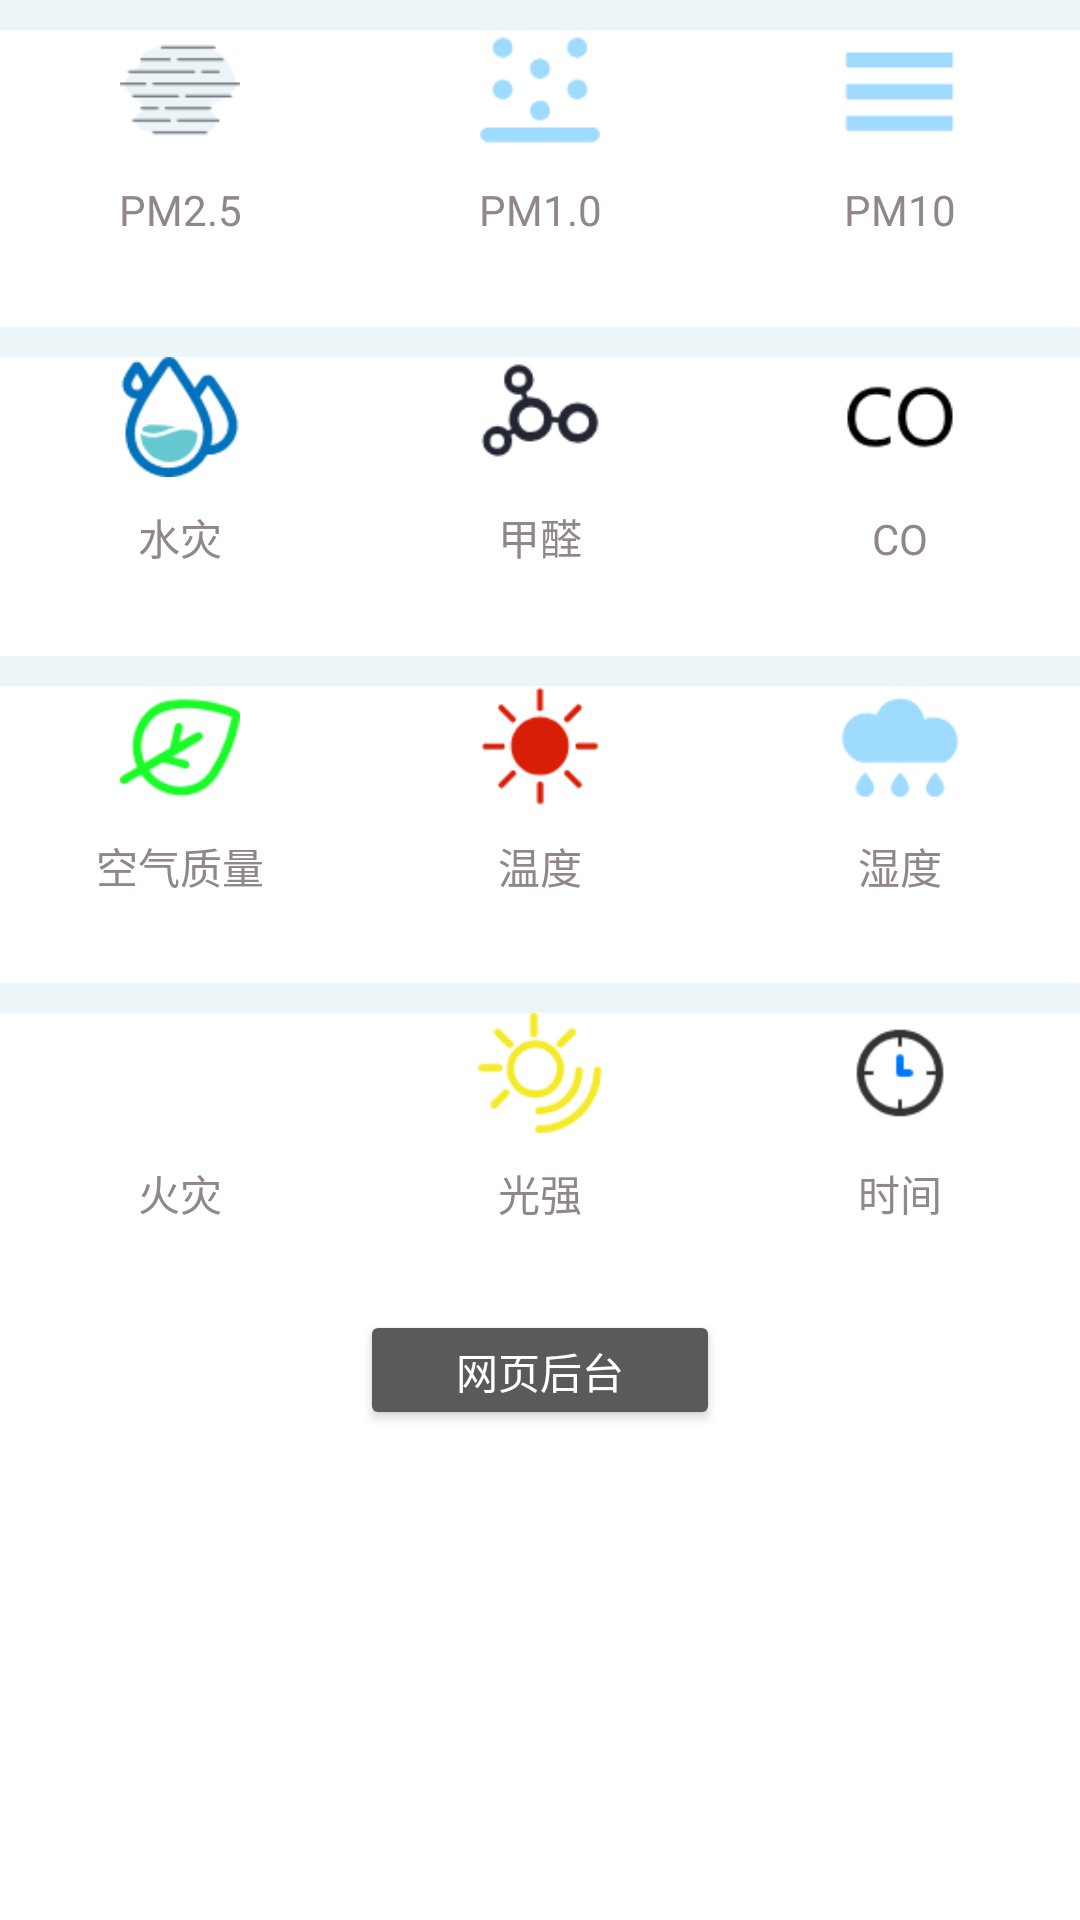

Where icons sit on this 1080w x 1920h app screen, as (x1, y1, x2, y2):
air: (120, 698, 240, 797)
haze: (120, 44, 240, 136)
hum: (842, 698, 958, 797)
time: (856, 1029, 944, 1117)
water: (121, 357, 239, 477)
